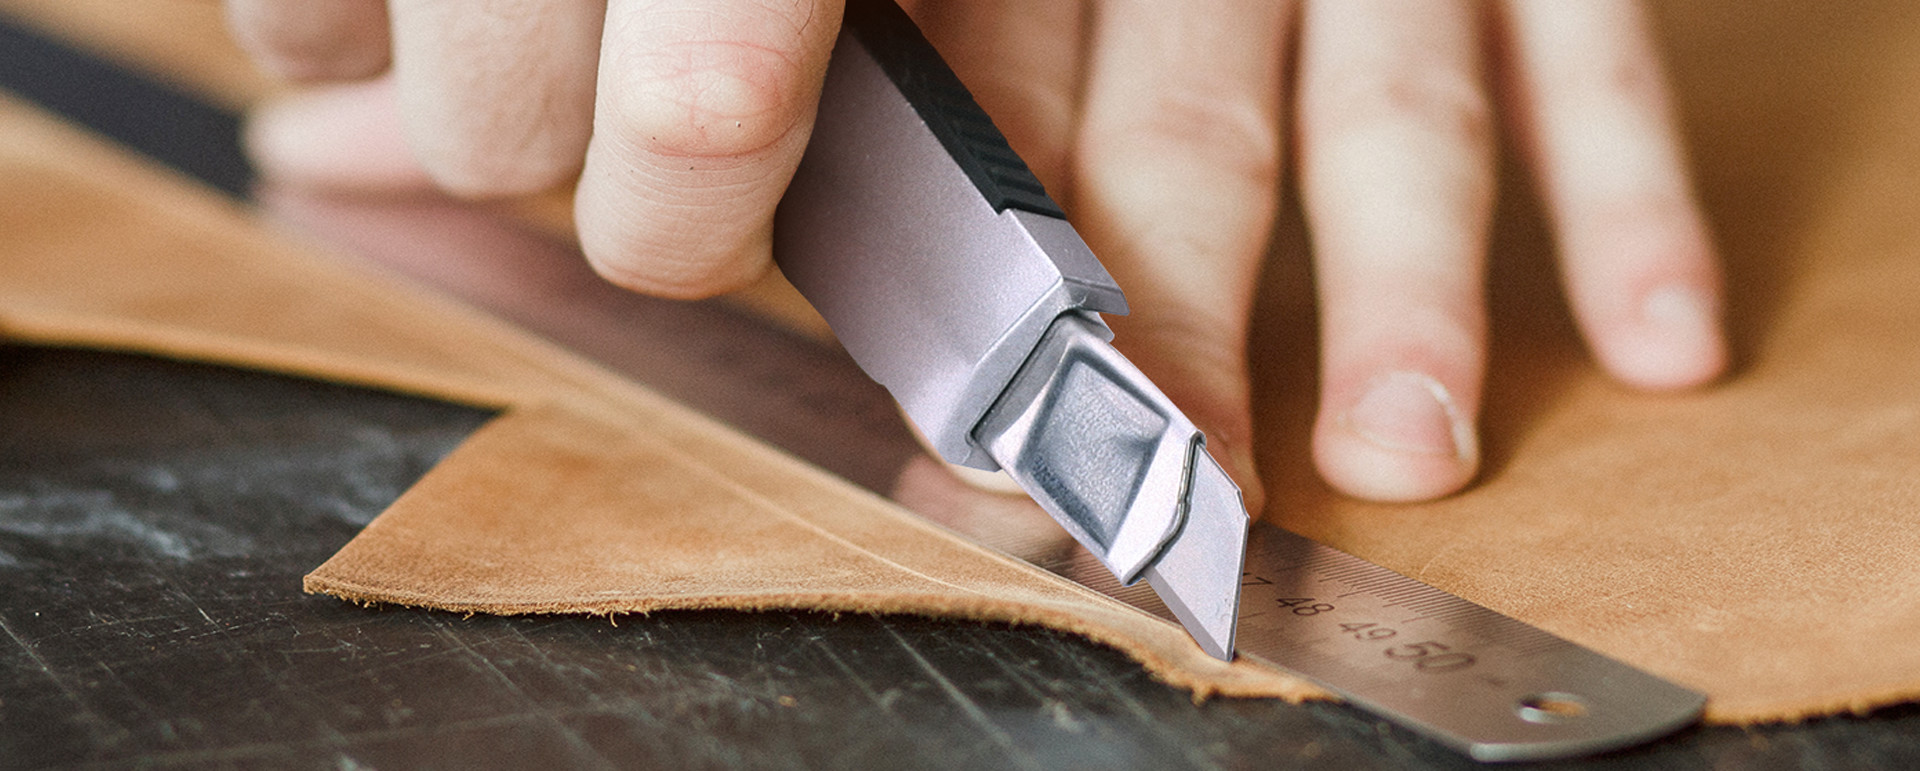cutter: (676, 1, 1251, 661)
